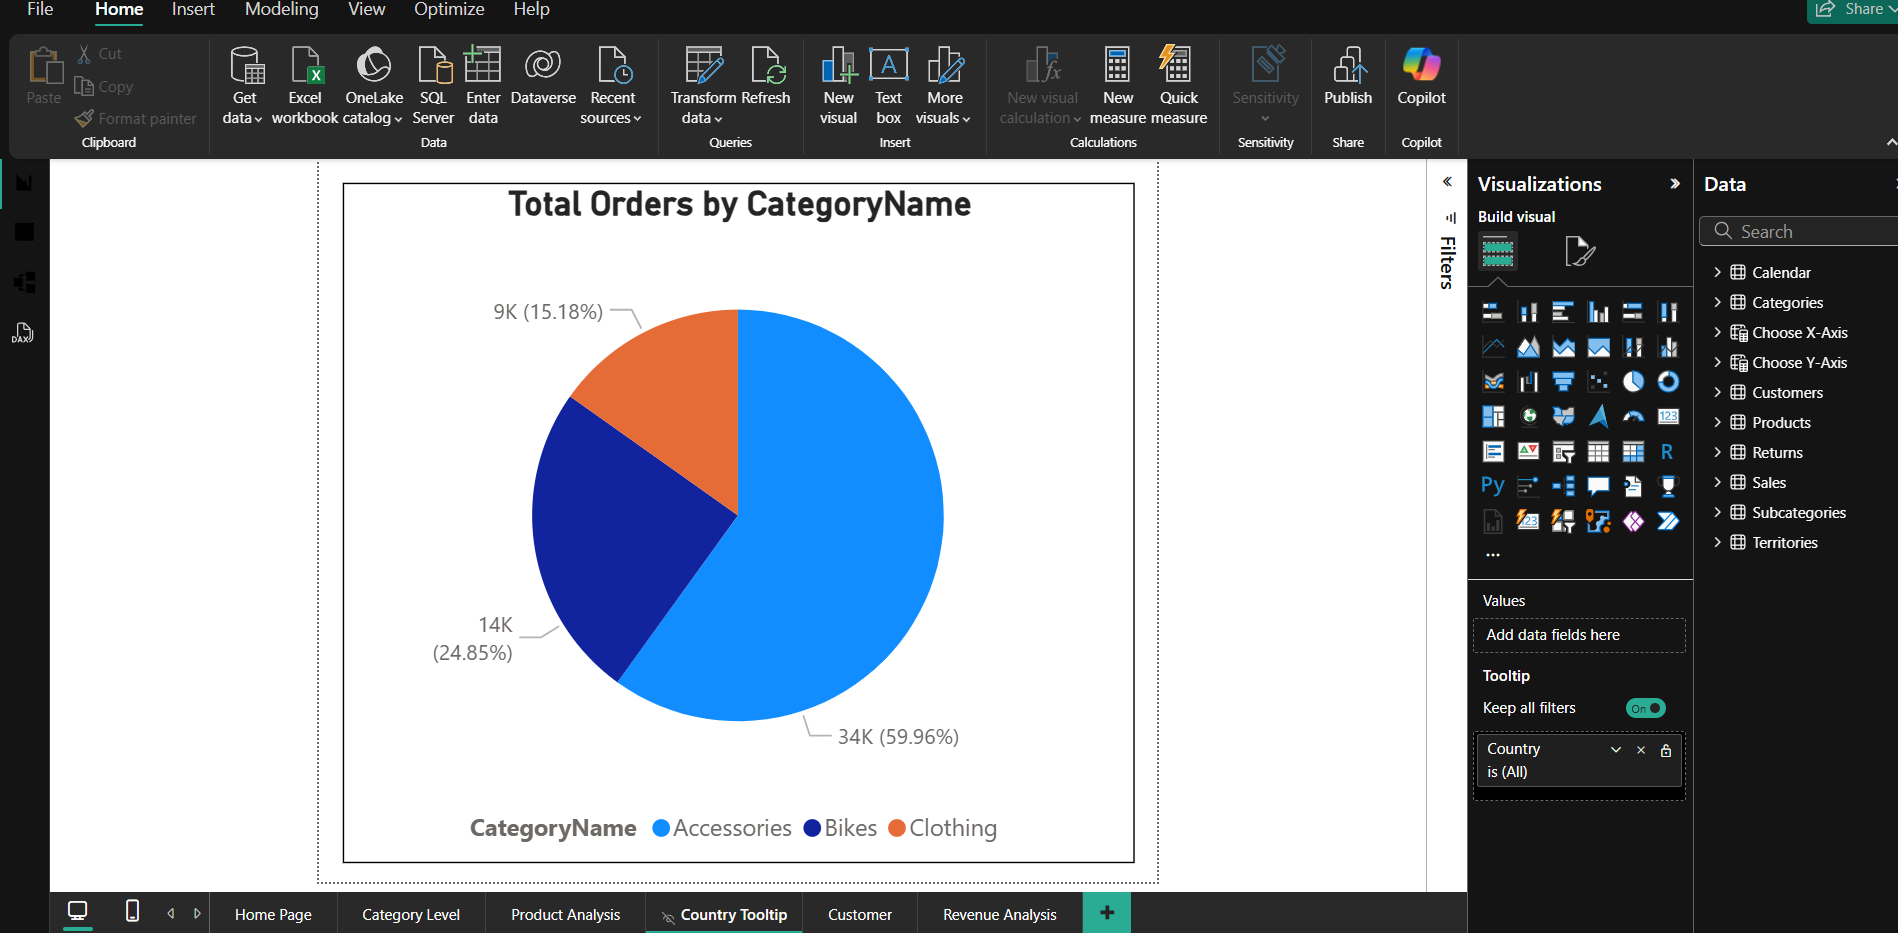

Layout of this report page (visuals, bound fields, positions):
{"tool":"powerbi","page":{"name":"Country Tooltip","canvas":[475,410],"ordinal":3},"visuals":[{"type":"pieChart","title":"Total Orders by CategoryName","fields":{"Category":["Categories.CategoryName"],"Y":["Sales.Total_Orders"]},"box":[13.7,13.7,448.7,385.6],"z":0}]}

Visuals, with their boxes on the page's 475x410 design canvas (x1, y1, x2, y2). These are canvas units, not pixel positions in the 1898x933 screenshot, which may show the page scaled, cropped or inside an application window:
"Total Orders by CategoryName" pieChart: x1=14 y1=14 x2=462 y2=399
